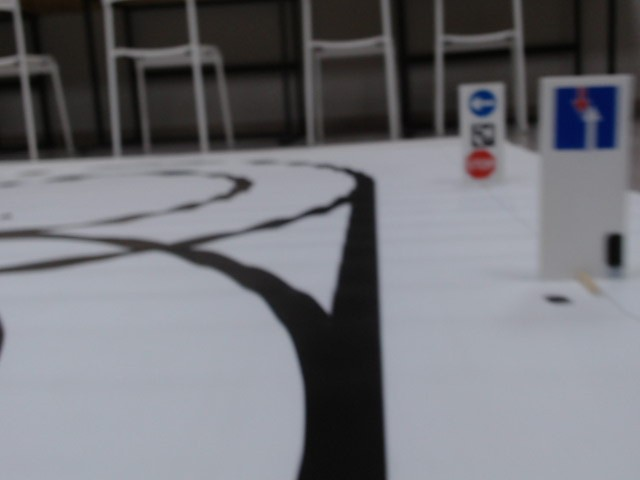Stop: (465, 150, 497, 179)
priority_movement: (553, 84, 623, 153)
